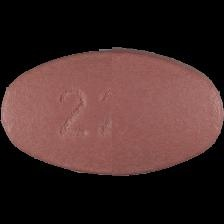66336-214: (0, 0, 224, 224)
